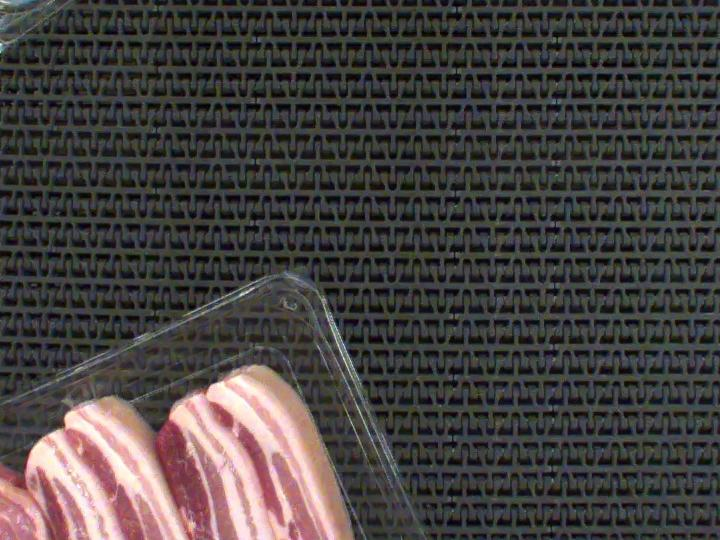packaging-error: (47, 374, 107, 409)
